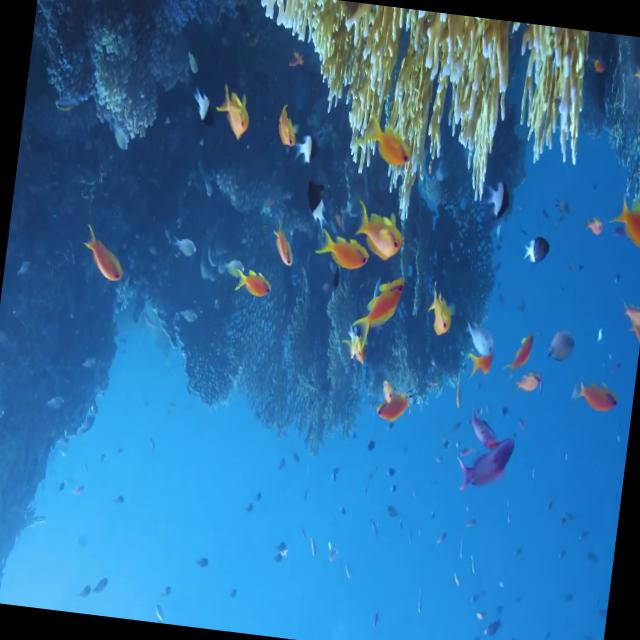fish: (350, 201, 410, 264), (460, 436, 515, 498), (358, 272, 402, 346), (80, 232, 130, 290), (317, 225, 372, 275), (217, 82, 253, 140), (607, 196, 640, 255), (424, 298, 462, 340), (236, 270, 274, 304)
